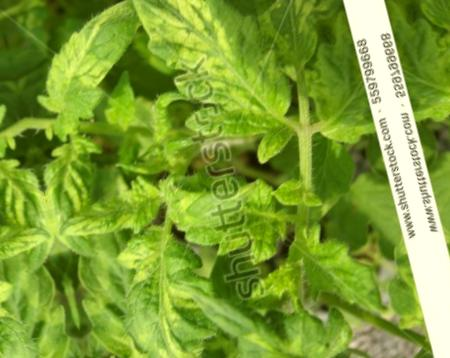Tomato leaf mosaic virus: (124, 0, 300, 167), (94, 218, 245, 358), (24, 0, 171, 139), (157, 149, 304, 283), (292, 10, 378, 156), (286, 216, 387, 336), (50, 167, 181, 252)
